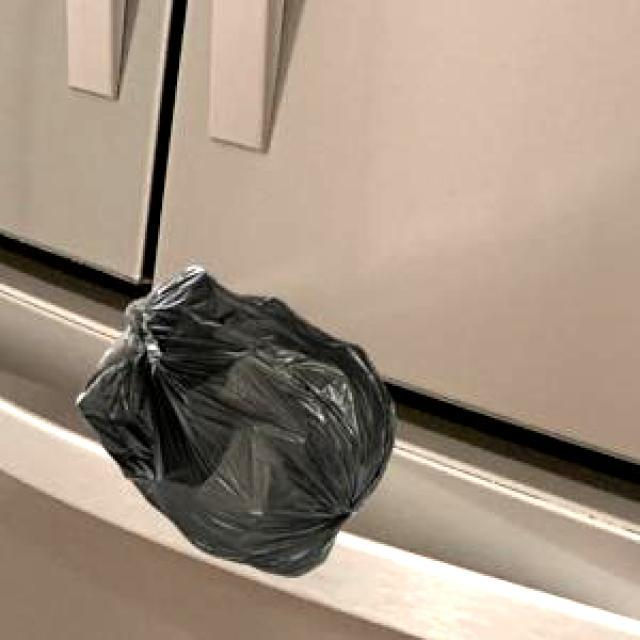Garbage_Bag: (74, 263, 392, 573)
